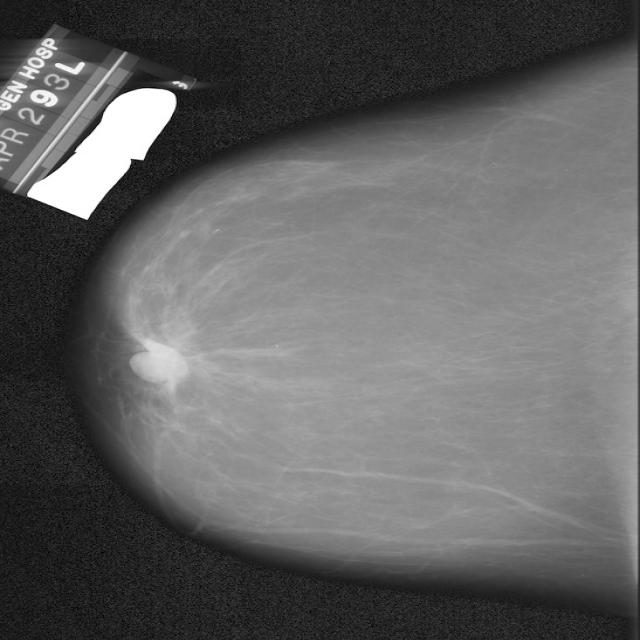tumour: (142, 341, 190, 389)
